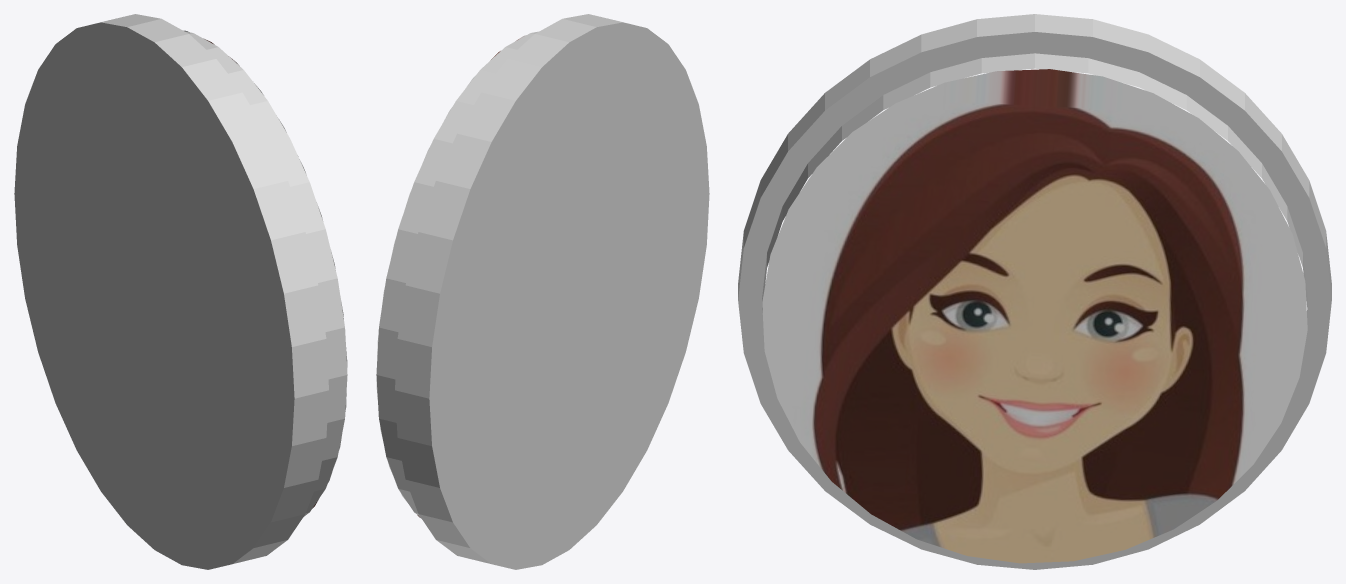
File: daughter.gltf
3 views of the same model, side by side, from view 1: azimuth 30°, elevation 25°; view 2: azimuth 150°, elevation 25°; view 3: azimuth 270°, elevation 25° (orthographic). The views are drawn at different scales.
Visible parts, largest first — view 1: Cylinder.004, Cylinder.012; view 2: Cylinder.004, Cylinder.012; view 3: Cylinder.021, Cylinder.012, Cylinder.004.
Part boxes in pixels (bbox=[...]): Cylinder.004: bbox=[14, 14, 328, 569]; Cylinder.012: bbox=[185, 31, 347, 516]; Cylinder.004: bbox=[395, 14, 709, 569]; Cylinder.012: bbox=[376, 31, 538, 516]; Cylinder.021: bbox=[762, 69, 1307, 563]; Cylinder.012: bbox=[738, 32, 1331, 569]; Cylinder.004: bbox=[738, 14, 1331, 299].
Size of the model in its own units: 0.8839 by 6.68 by 6.68.
1 material, 1 textured.
